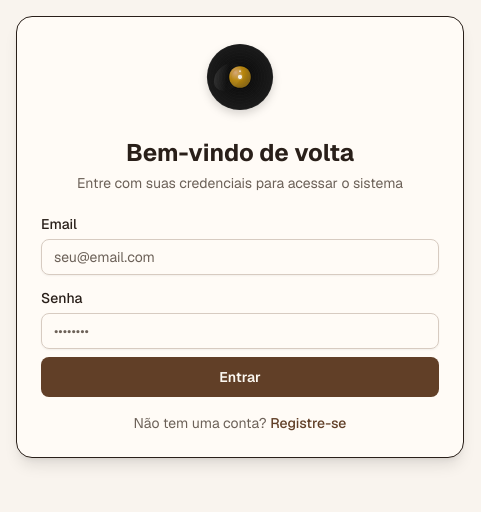
Test: LoginPage › validação de senha › should show error for password less than 6 characters
This screenshot has width=481, height=512.
Type "test@test.com" into the field labelled "Email" at (240, 257), box [41,239,439,275]
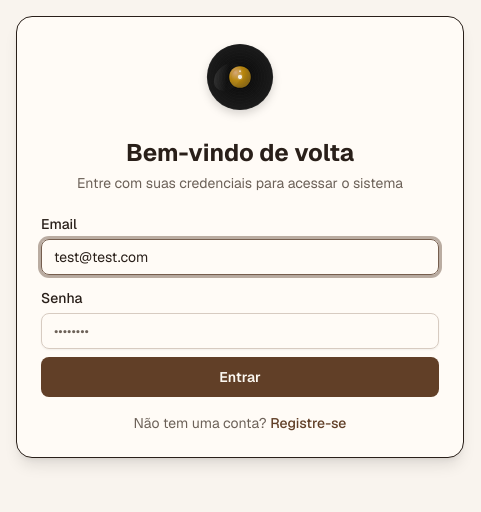
Type "12345" into the password field labelled "Senha" at (240, 331), box [41,313,439,349]
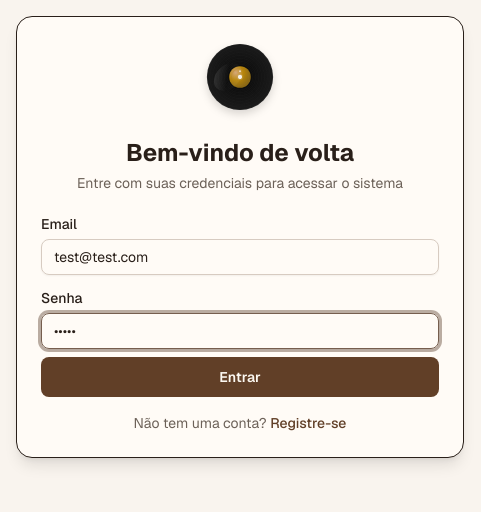
Click the button "Entrar" at (240, 377), box [41,357,439,397]
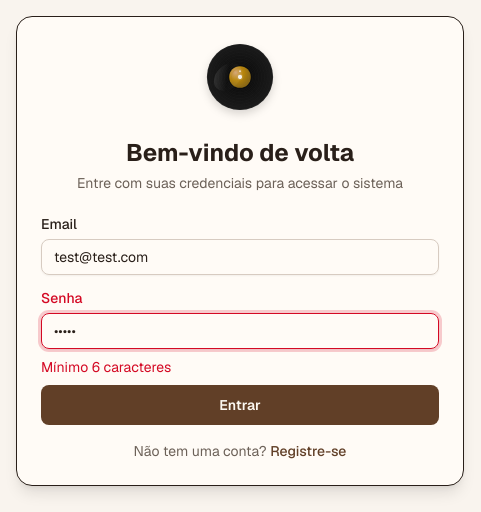
Check: the text "Mínimo 6 caracteres" is shown, box [41,358,171,376]
